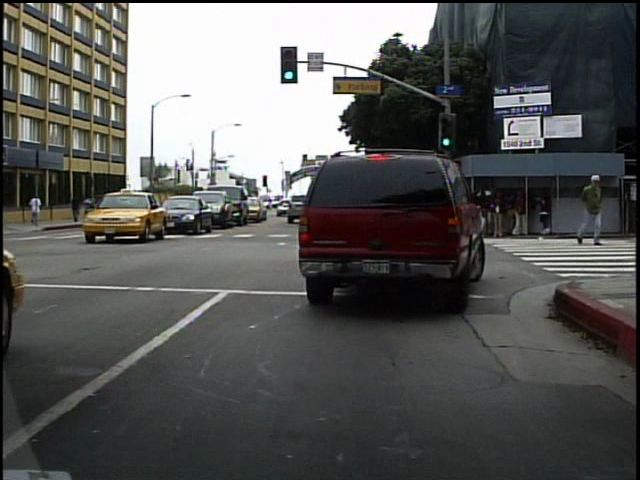person: (576, 168, 606, 251), (26, 192, 45, 229)
